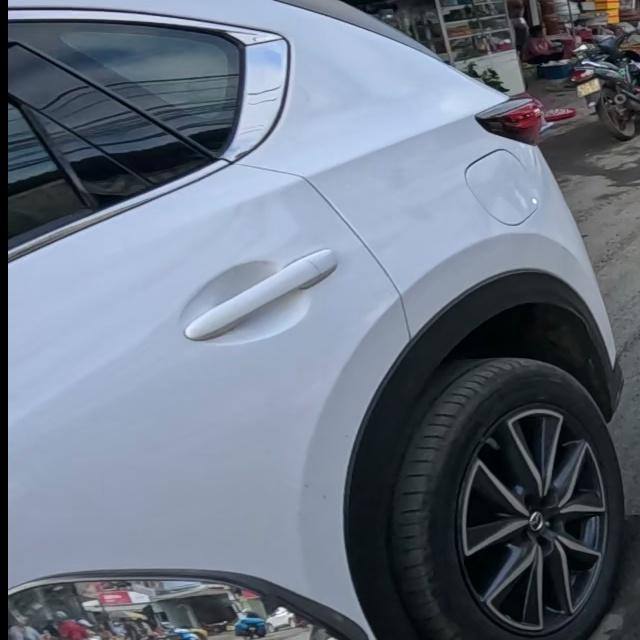license-plate: (576, 78, 602, 97)
